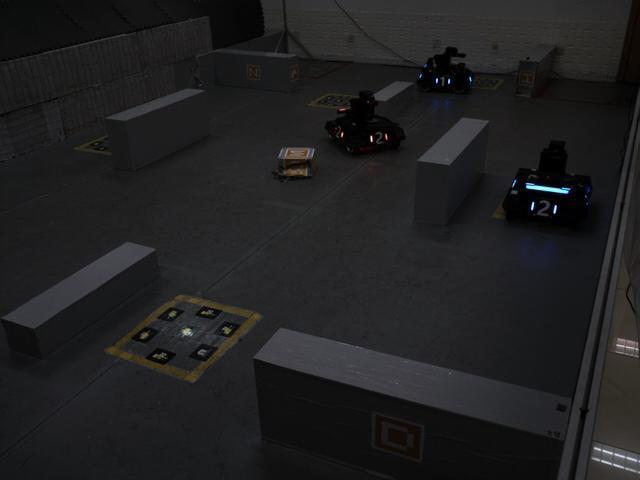armor: (526, 199, 559, 220), (365, 128, 392, 149), (328, 124, 347, 143), (431, 74, 454, 89)
